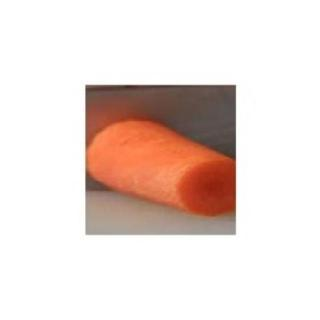carrot: (88, 113, 236, 219)
